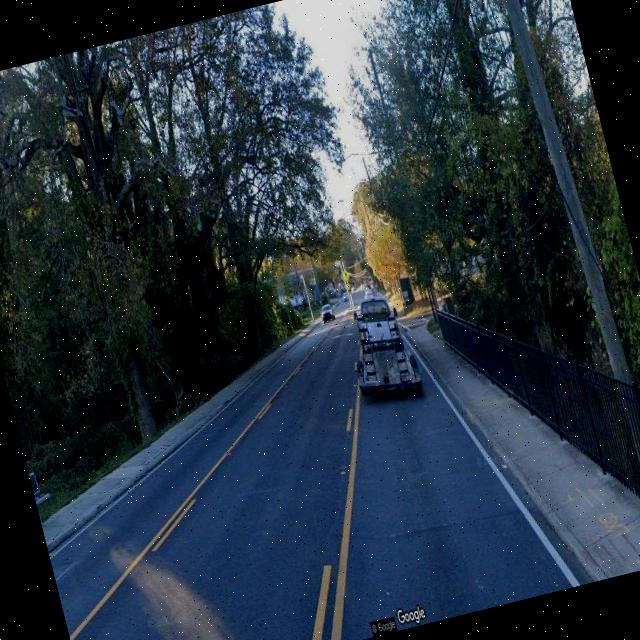seating: (28, 468, 58, 530)
